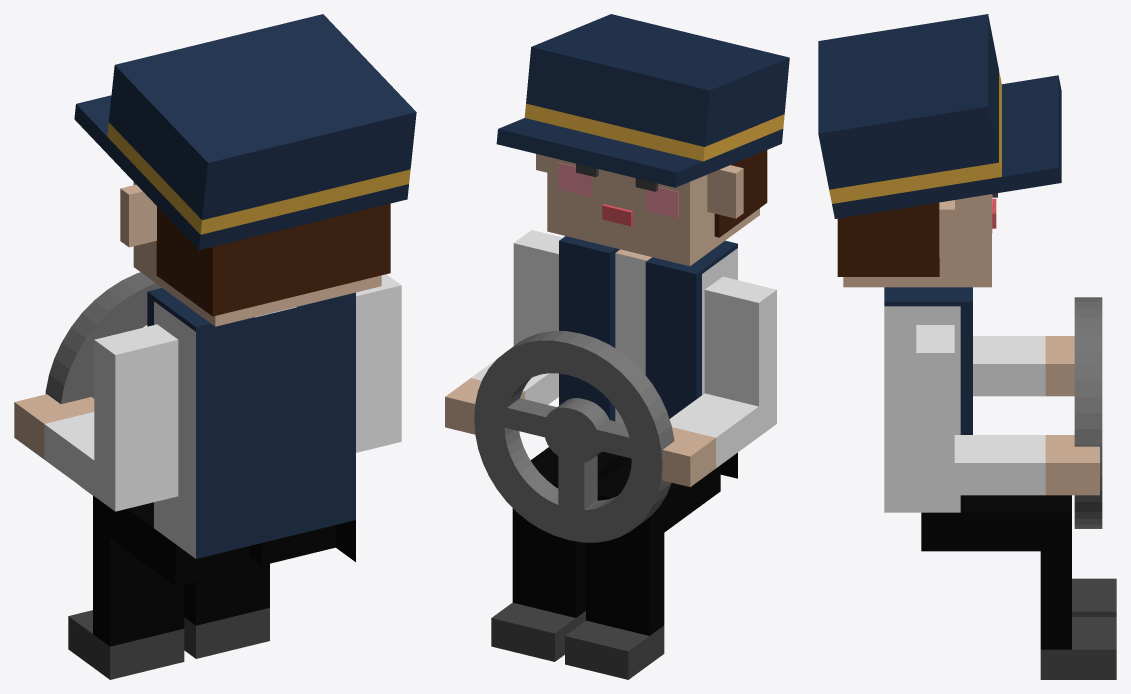
Rendered from BusDriver.fbx.
3 renders of one model, left to right at view 1: azimuth 30°, elevation 25°; view 2: azimuth 150°, elevation 25°; view 3: azimuth 270°, elevation 25°, orthographic. The views are drawn at different scales.
Parts seen in each view (by area): view 1: busDriver; view 2: busDriver; view 3: busDriver.
Part boxes in pixels (bbox=[...]): busDriver: bbox=[14, 14, 416, 679]; busDriver: bbox=[445, 14, 789, 679]; busDriver: bbox=[818, 14, 1116, 679].
Bounding box in the file's own units: 26.21 × 56.19 × 26.02.
